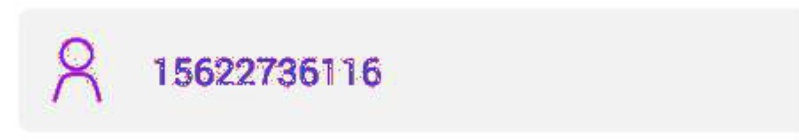EditText: (1, 1, 798, 139)
